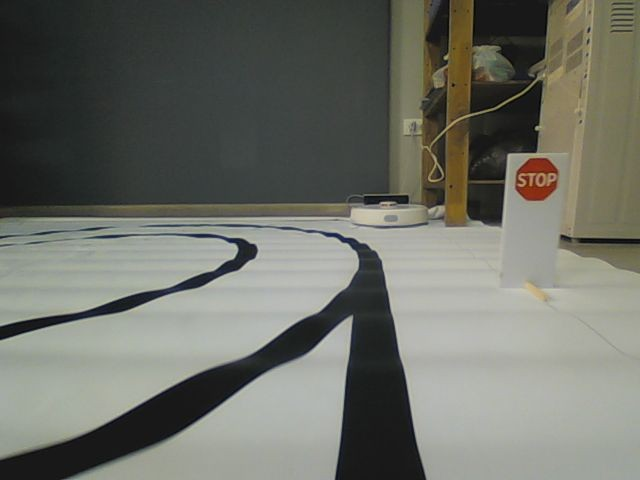Stop: (513, 156, 559, 202)
